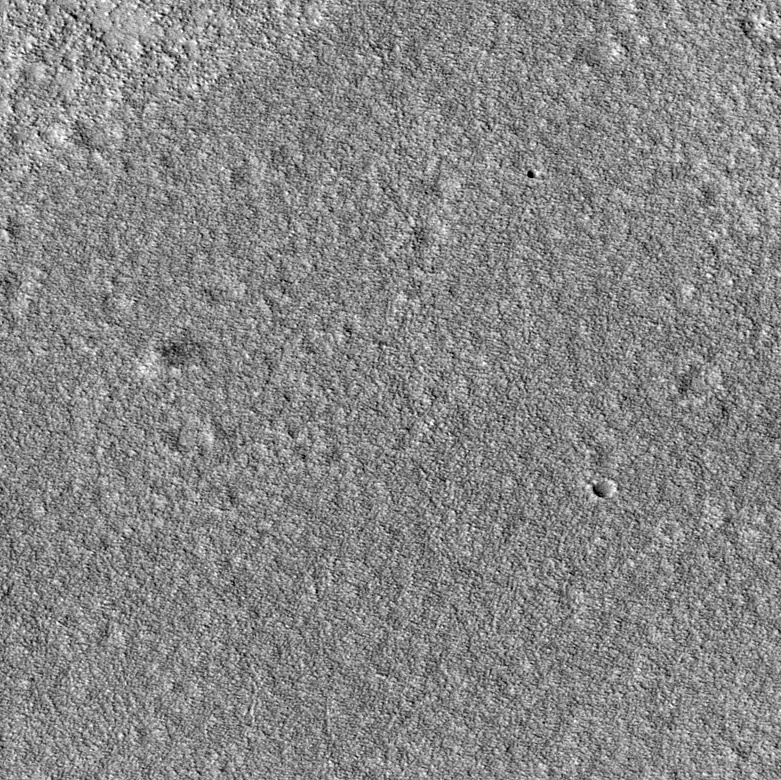dust_devil: (135, 326, 210, 379)
